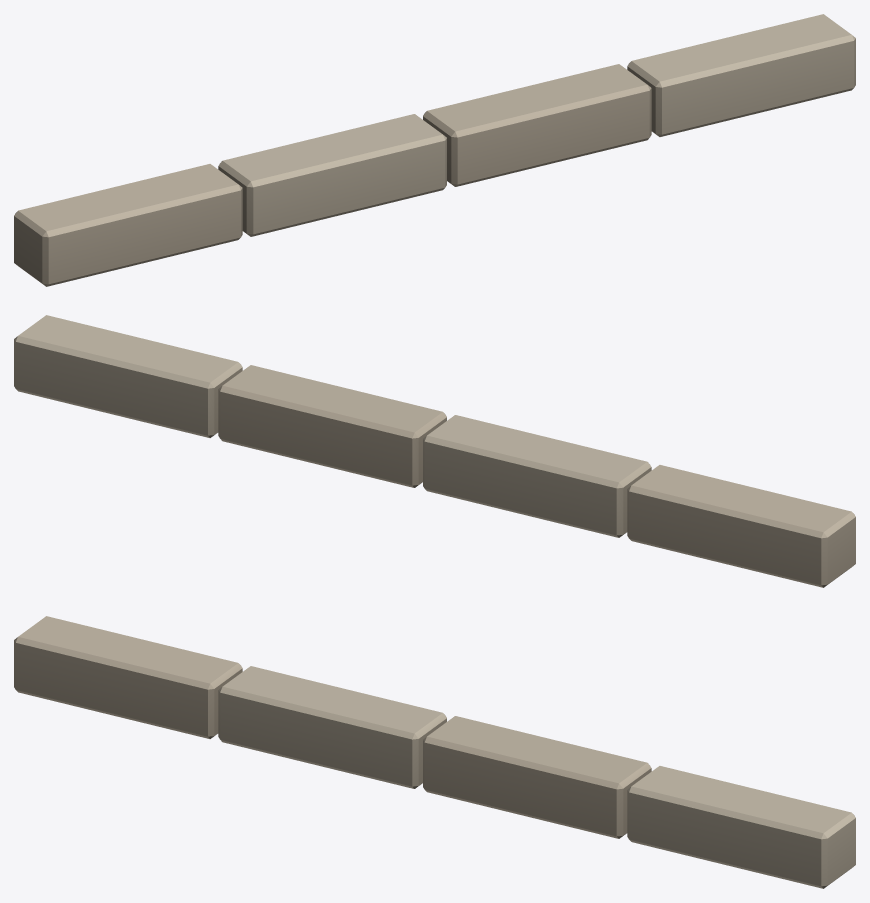
Rendered from kerb.glb.
The picture shows the model from 3 angles, top to bottom: view 1: azimuth 30°, elevation 25°; view 2: azimuth 150°, elevation 25°; view 3: azimuth 330°, elevation 25°; orthographic projection.
Parts seen in each view (by area): view 1: kerb; view 2: kerb; view 3: kerb.
Part boxes in pixels (bbox=[...]): kerb: bbox=[14, 14, 855, 286]; kerb: bbox=[14, 315, 855, 587]; kerb: bbox=[14, 616, 855, 888].
Size of the model in its own units: 3.98 by 0.26 by 0.28.
